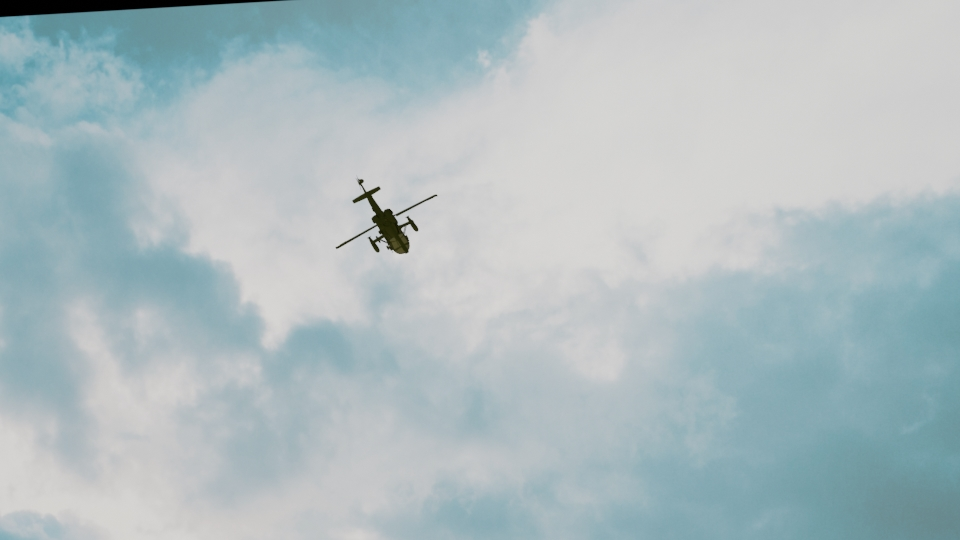heli: (336, 177, 440, 255)
